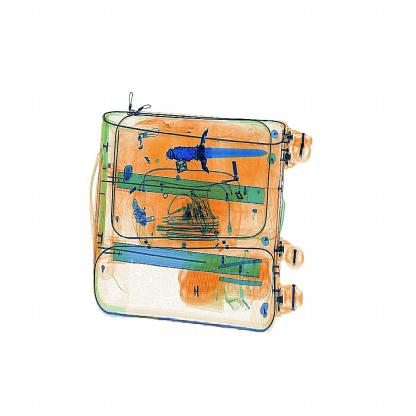wrench: (152, 120, 284, 179)
